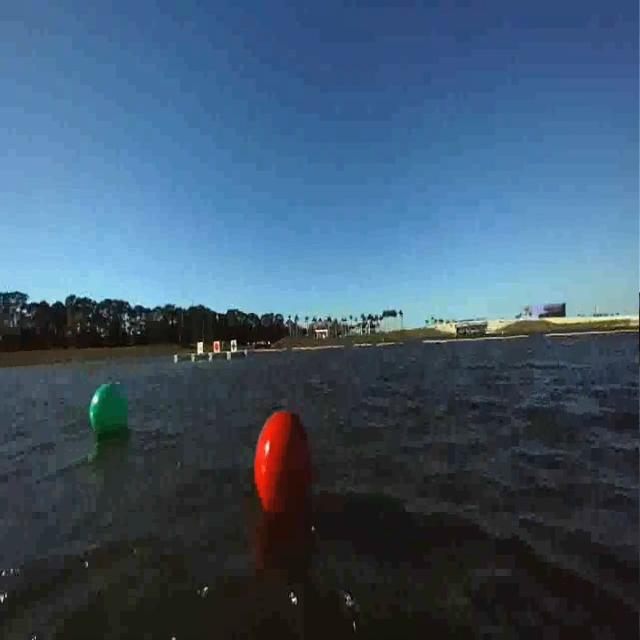green-buoy: (88, 382, 129, 435)
red-buoy: (254, 411, 314, 514)
